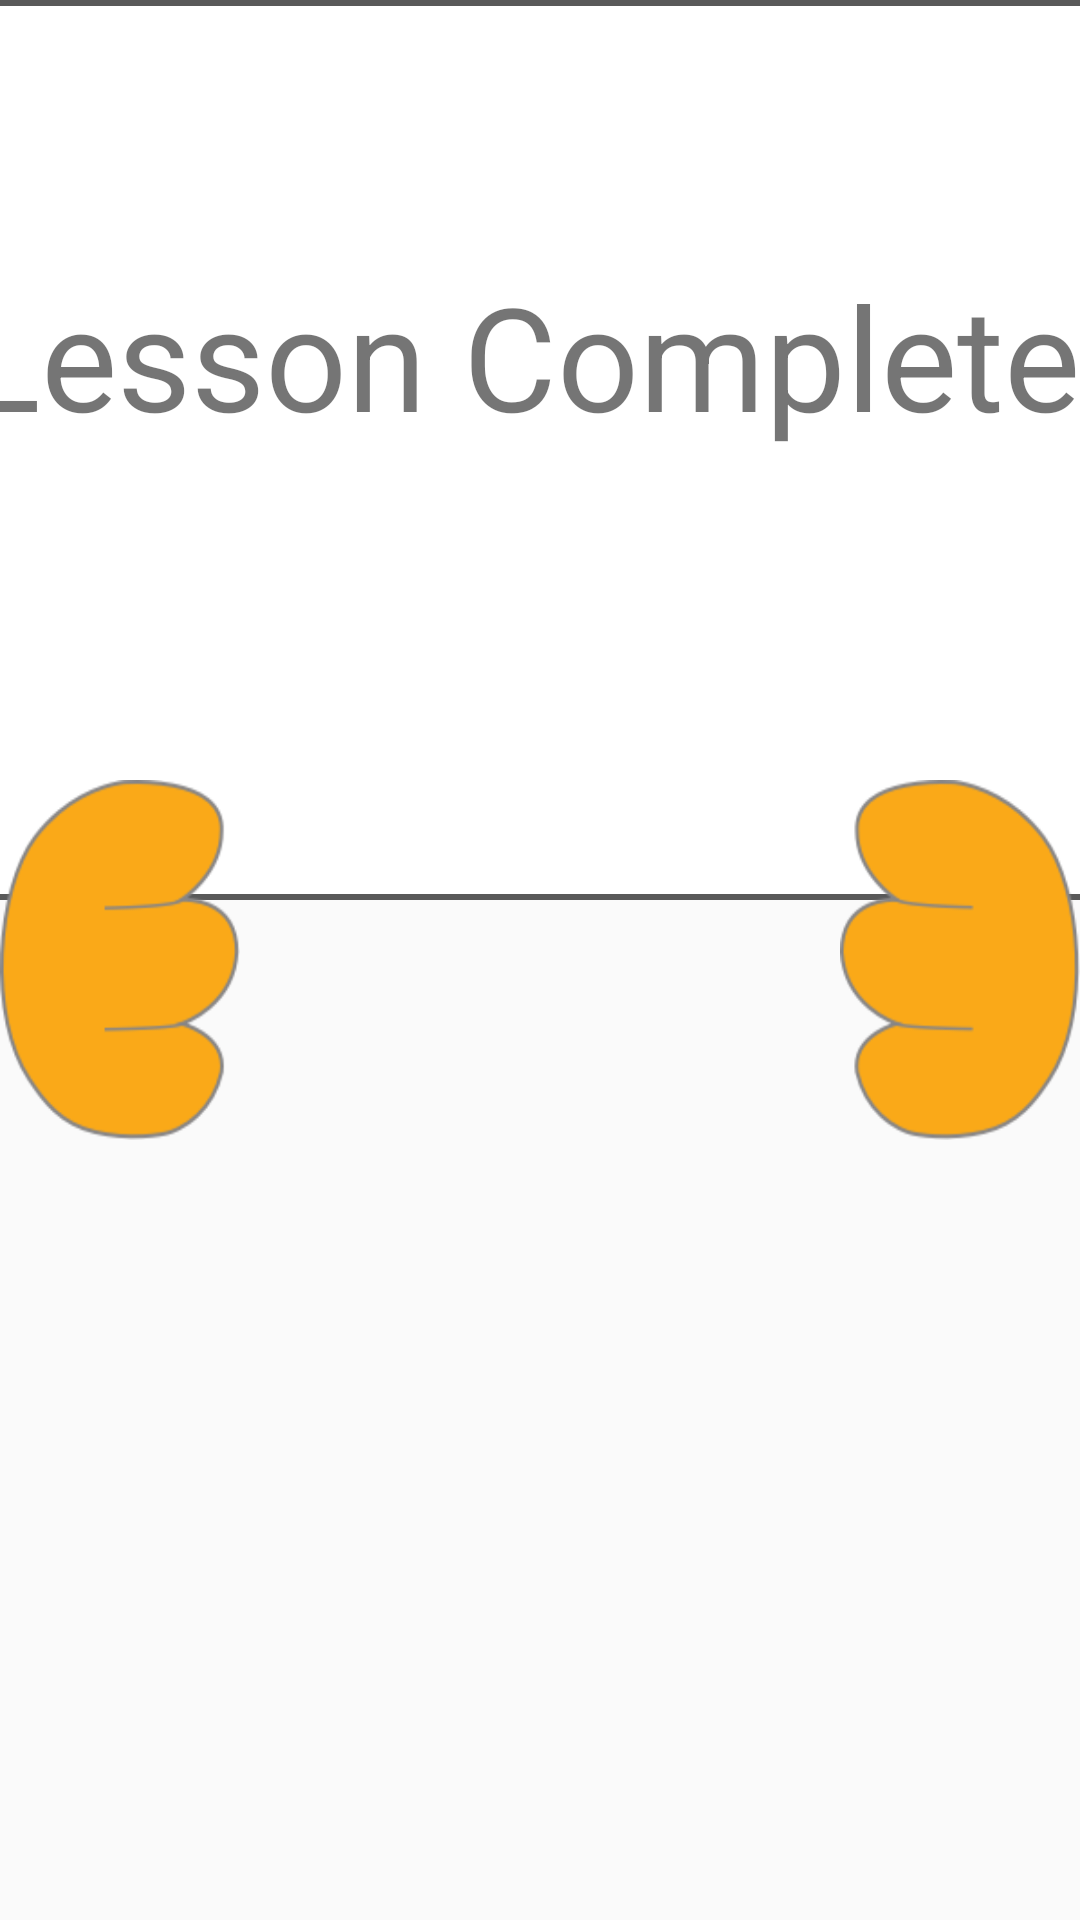

Icon bounding boxes for this 1080x1920 phone screenshot, format (x1, y1, x2, y2):
left hand: (0, 780, 240, 1140)
right hand: (840, 780, 1080, 1140)
